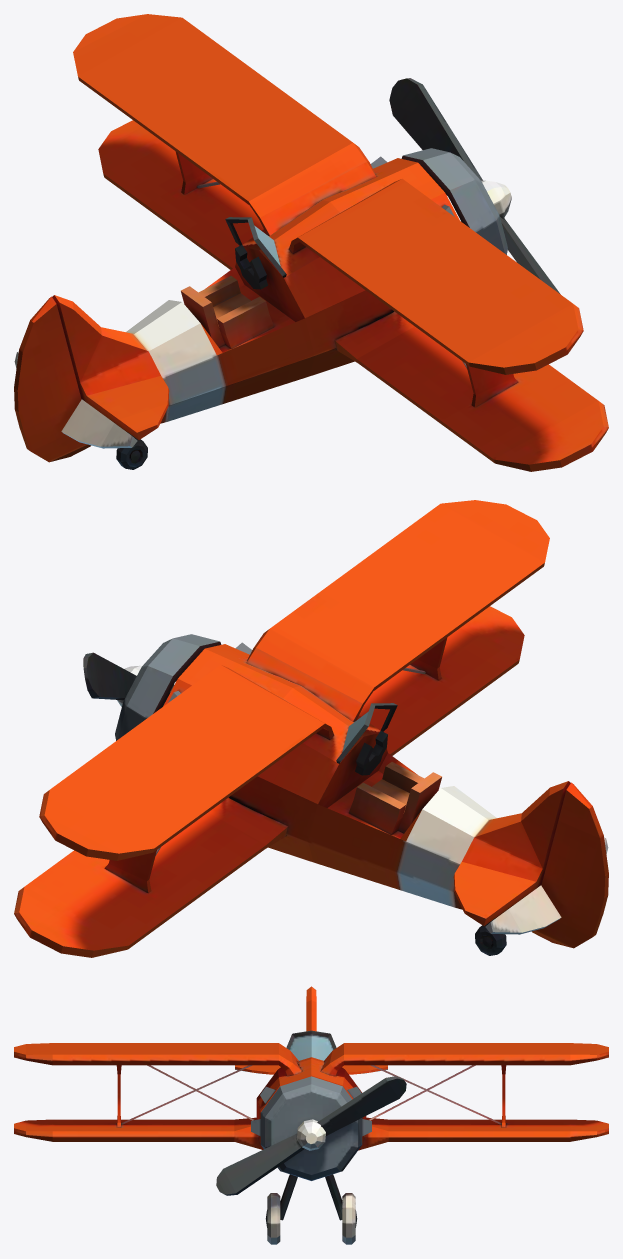
The model's file is avion.glb.
The picture shows the model from 3 angles, top to bottom: view 1: azimuth 30°, elevation 25°; view 2: azimuth 150°, elevation 25°; view 3: azimuth 270°, elevation 25°; orthographic projection. The views are drawn at different scales.
Visible parts, largest first — view 1: PUSHILIN_Plane_Circle.000; view 2: PUSHILIN_Plane_Circle.000; view 3: PUSHILIN_Plane_Circle.000.
Part boxes in pixels (<box>): PUSHILIN_Plane_Circle.000: <box>14,14,608,471</box>; PUSHILIN_Plane_Circle.000: <box>14,500,608,957</box>; PUSHILIN_Plane_Circle.000: <box>14,986,608,1244</box>.
Bounding box in the file's own units: 2.43 × 1.21 × 3.78.
1 material, 1 textured.
